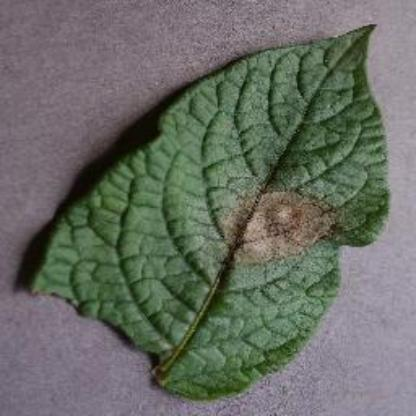Late-Blight: (28, 10, 400, 410)
